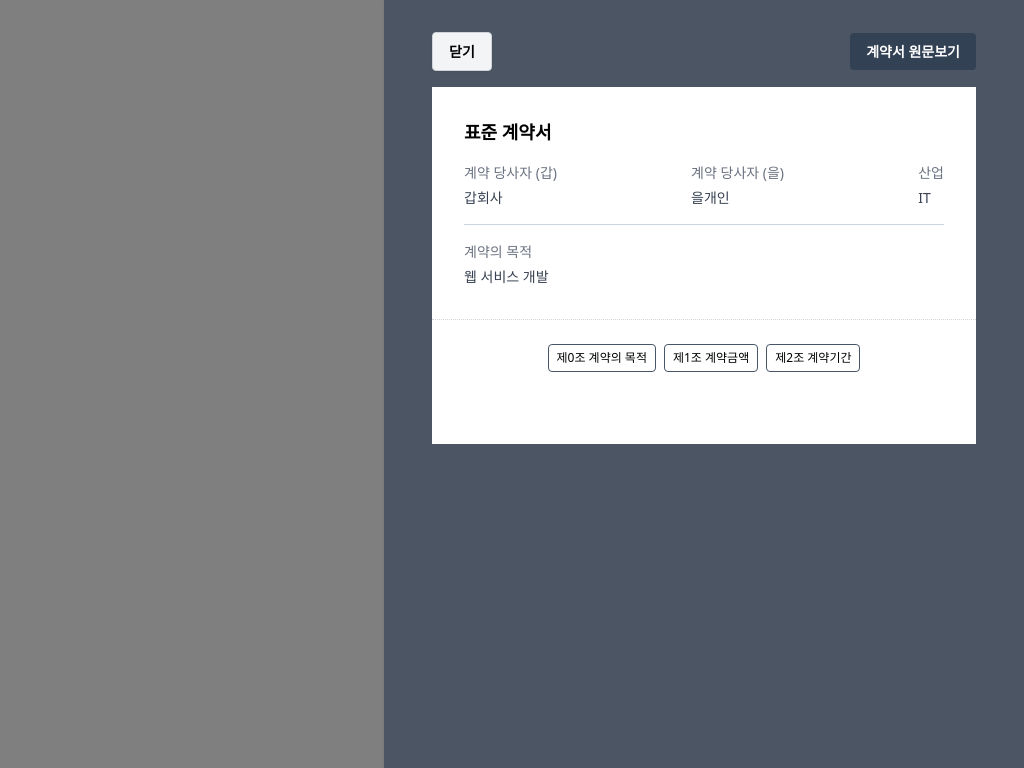
SidePanel 컴포넌트 › 조항 버튼 클릭 시 조항 내용이 표시되는지 확인
Expected: the text "계약금액은 1억원으로 한다." is not shown
Click the text "제1조 계약금액": (711, 358) x1=664 y1=344 x2=758 y2=372
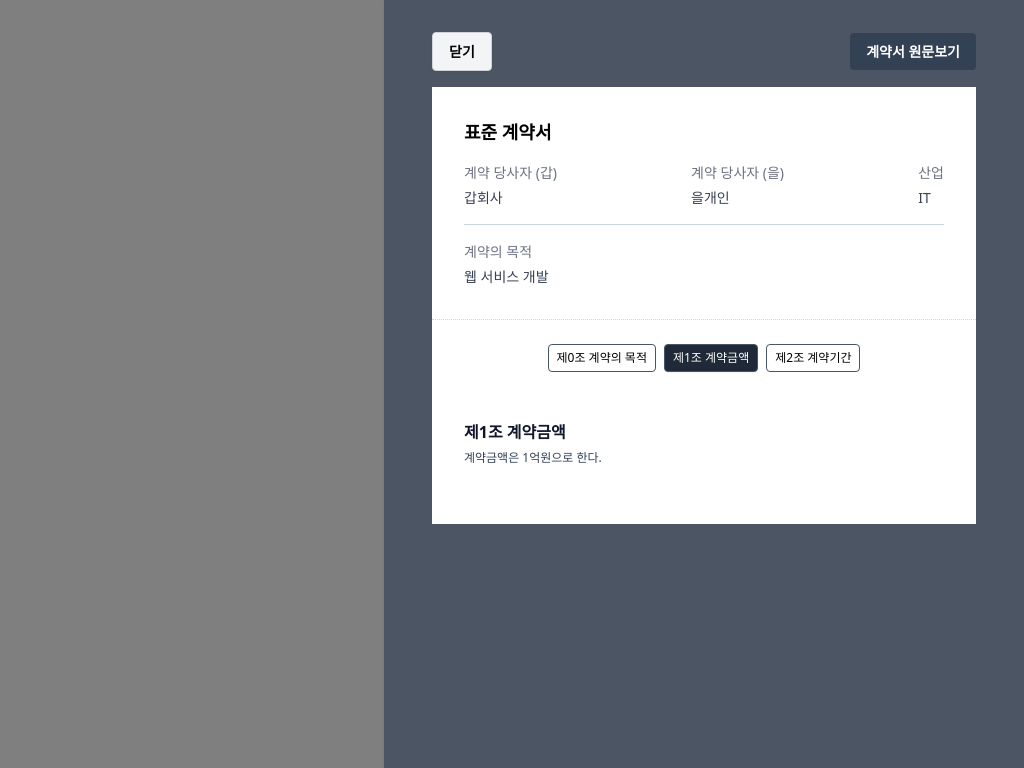
Result: the text "계약금액은 1억원으로 한다." is shown at x1=464 y1=449 x2=602 y2=466
